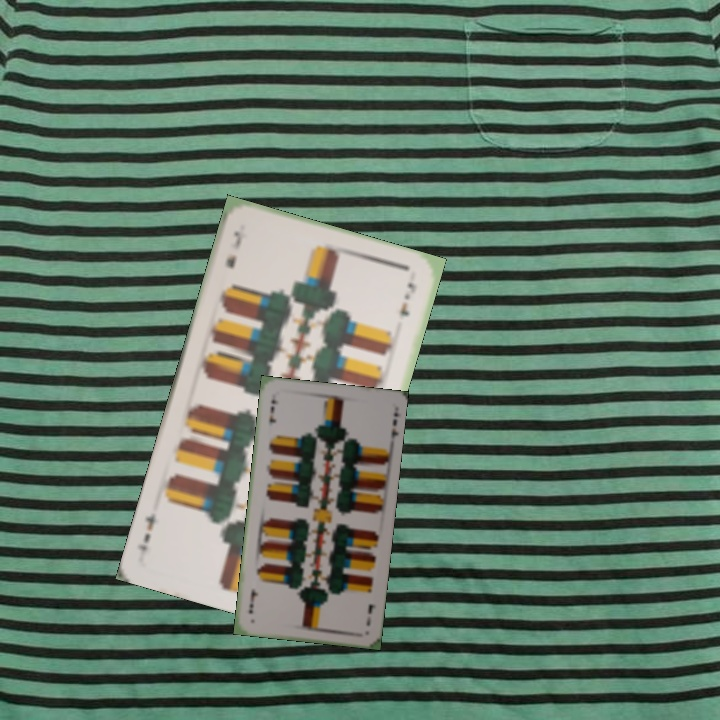E7: (221, 226, 244, 271), (265, 395, 281, 429), (363, 600, 379, 628)
